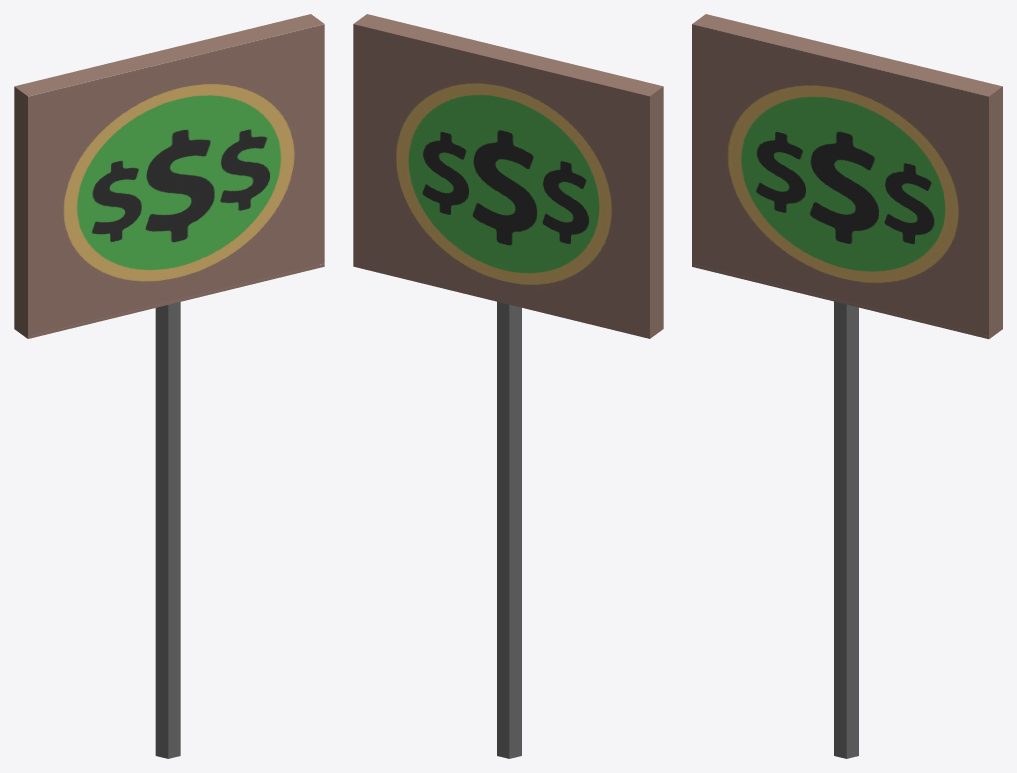
The model's file is cartel_06.fbx.
3 renders of one model, left to right at view 1: azimuth 30°, elevation 25°; view 2: azimuth 150°, elevation 25°; view 3: azimuth 330°, elevation 25°, orthographic.
Visible parts, largest first — view 1: Cartel PRECIO CARO; view 2: Cartel PRECIO CARO; view 3: Cartel PRECIO CARO.
Boxes of the visible parts, x1,y1,x2,y2 form: Cartel PRECIO CARO: (14, 14, 324, 758); Cartel PRECIO CARO: (353, 14, 663, 758); Cartel PRECIO CARO: (692, 14, 1002, 758).
Size of the model in its own units: 60.87 by 137 by 4.89.
3 materials, 1 textured.
